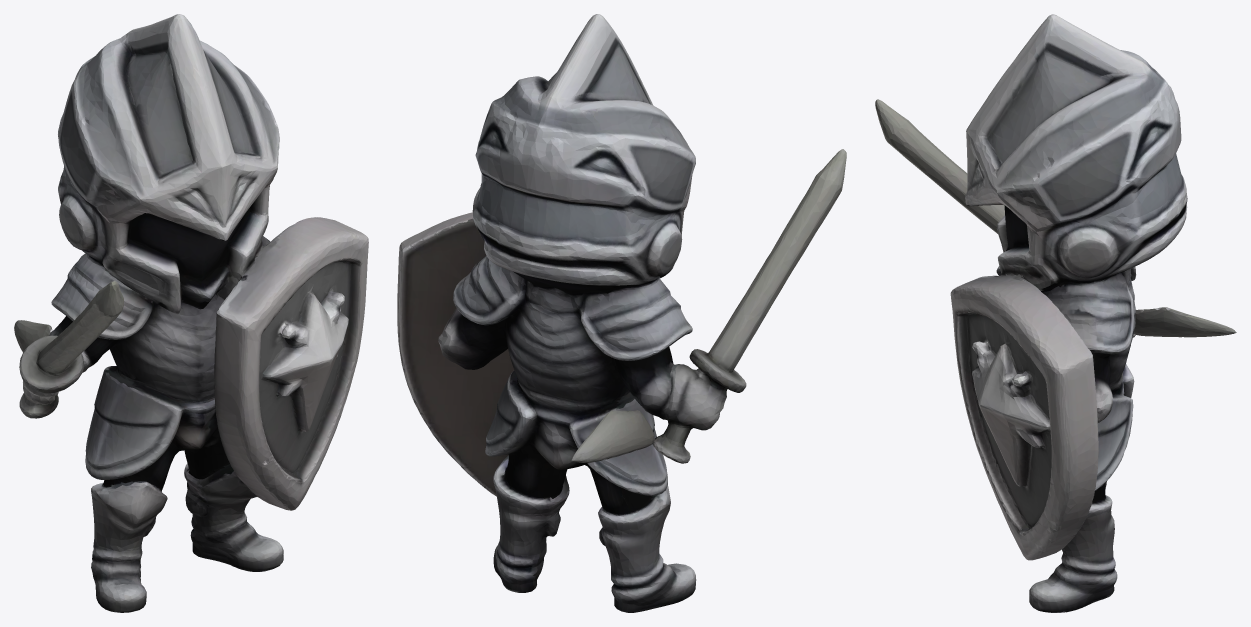
Rendered from minion_melee_knight.glb.
3 renders of one model, left to right at view 1: azimuth 30°, elevation 25°; view 2: azimuth 150°, elevation 25°; view 3: azimuth 270°, elevation 25°, orthographic. The views are drawn at different scales.
Visible parts, largest first — view 1: tmpuvwh5dzq.ply; view 2: tmpuvwh5dzq.ply; view 3: tmpuvwh5dzq.ply.
Part boxes in pixels (bbox=[...]): tmpuvwh5dzq.ply: bbox=[14, 14, 368, 612]; tmpuvwh5dzq.ply: bbox=[397, 14, 846, 612]; tmpuvwh5dzq.ply: bbox=[875, 14, 1236, 612].
Size of the model in its own units: 1.31 by 1.99 by 1.18.
Materials: 1 (1 with a texture image).
